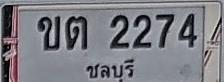2: (132, 14, 152, 48), (110, 14, 128, 48)
4: (178, 12, 196, 48)
7: (156, 13, 174, 48)
A02: (37, 15, 60, 50)
A21: (66, 16, 88, 50)
CBI: (83, 58, 137, 82)
